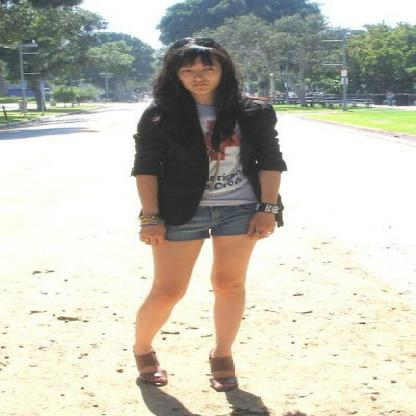jacket: (133, 107, 286, 224)
shirt: (195, 94, 252, 206)
shoe: (134, 351, 248, 398)
shorts: (163, 203, 256, 241)
